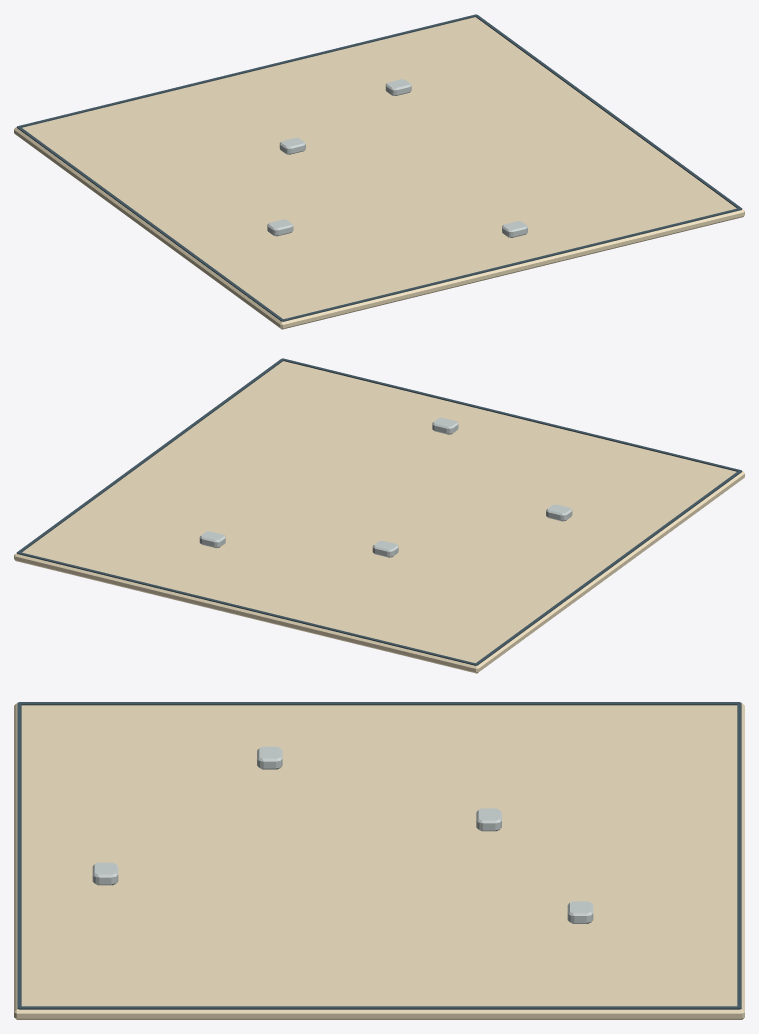
The model's file is ground-sand.glb.
3 views of the same model, one above another, from view 1: azimuth 30°, elevation 25°; view 2: azimuth 150°, elevation 25°; view 3: azimuth 270°, elevation 25° (orthographic). The views are drawn at different scales.
Parts seen in each view (by area): view 1: surface, asset_ground-sand__FP_Dark, asset_ground-sand__FP_Concrete; view 2: surface, asset_ground-sand__FP_Dark, asset_ground-sand__FP_Concrete; view 3: surface, asset_ground-sand__FP_Dark, asset_ground-sand__FP_Concrete.
Boxes of the visible parts, box(x1,y1,x2,y2) form: surface: box(14, 17, 744, 329); asset_ground-sand__FP_Dark: box(16, 14, 742, 321); asset_ground-sand__FP_Concrete: box(267, 79, 527, 237); surface: box(14, 361, 744, 673); asset_ground-sand__FP_Dark: box(16, 358, 742, 665); asset_ground-sand__FP_Concrete: box(199, 417, 572, 557); surface: box(14, 703, 744, 1019); asset_ground-sand__FP_Dark: box(17, 702, 741, 1009); asset_ground-sand__FP_Concrete: box(92, 746, 593, 923).
Size of the model in its own units: 4 by 0.1275 by 4.
